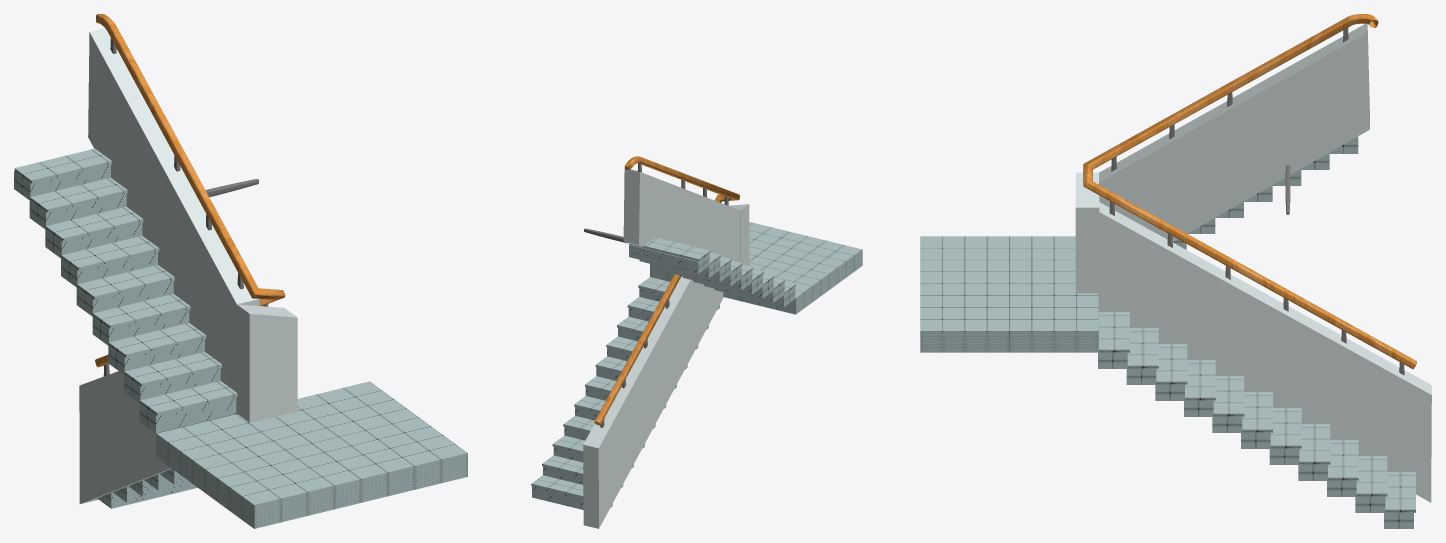
3 renders of one model, left to right at view 1: azimuth 30°, elevation 25°; view 2: azimuth 150°, elevation 25°; view 3: azimuth 270°, elevation 25°, orthographic. The views are drawn at different scales.
Parts seen in each view (by area): view 1: Box25, 立方体.001, 立方体, 立方体.002, Поручень.001, Box63, Box57, Box51, Box59, Box47, Box61, Box55 (+11 smaller); view 2: 立方体, 立方体.001, Box25, Поручень.001, Box62, Box63, Box02, 立方体.002, Box01, Box27, Box26; view 3: 立方体, 立方体.001, Box25, Поручень.001, 立方体.002, Box45, Box27, Box31, Box37, Box41, Box33, Box43 (+4 smaller).
Boxes of the visible parts, x1=… form: Box25: x1=156, y1=381, x2=467, y2=528; 立方体.001: x1=88, y1=28, x2=259, y2=413; 立方体: x1=79, y1=371, x2=235, y2=503; 立方体.002: x1=236, y1=304, x2=297, y2=422; Поручень.001: x1=95, y1=14, x2=285, y2=367; Box63: x1=14, y1=148, x2=111, y2=183; Box57: x1=61, y1=236, x2=159, y2=271; Box51: x1=108, y1=323, x2=206, y2=358; Box59: x1=46, y1=206, x2=143, y2=241; Box47: x1=140, y1=381, x2=237, y2=416; Box61: x1=30, y1=177, x2=127, y2=212; Box55: x1=77, y1=265, x2=174, y2=300; 立方体: x1=583, y1=276, x2=723, y2=528; 立方体.001: x1=623, y1=168, x2=740, y2=262; Box25: x1=650, y1=222, x2=862, y2=314; Поручень.001: x1=594, y1=156, x2=739, y2=425; Box62: x1=629, y1=244, x2=709, y2=273; Box63: x1=629, y1=237, x2=710, y2=261; Box02: x1=531, y1=475, x2=583, y2=498; 立方体.002: x1=729, y1=204, x2=749, y2=265; Box01: x1=532, y1=486, x2=612, y2=509; Box27: x1=542, y1=455, x2=583, y2=475; Box26: x1=543, y1=466, x2=623, y2=487; 立方体: x1=1098, y1=202, x2=1431, y2=502; 立方体.001: x1=1099, y1=23, x2=1369, y2=241; Box25: x1=920, y1=236, x2=1098, y2=352; Поручень.001: x1=1083, y1=14, x2=1416, y2=369; 立方体.002: x1=1075, y1=172, x2=1099, y2=306; Box45: x1=1099, y1=312, x2=1129, y2=352; Box27: x1=1356, y1=456, x2=1387, y2=496; Box31: x1=1299, y1=424, x2=1330, y2=464; Box37: x1=1213, y1=376, x2=1244, y2=416; Box41: x1=1156, y1=344, x2=1187, y2=384; Box33: x1=1270, y1=408, x2=1301, y2=448; Box43: x1=1127, y1=328, x2=1158, y2=368.
Size of the model in its own units: 206 by 438 by 455.
Materials: 6 (2 with a texture image).
